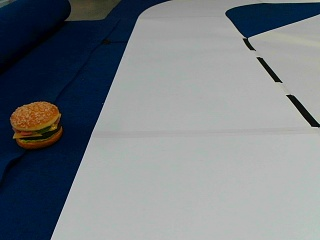burger: (9, 99, 63, 148)
